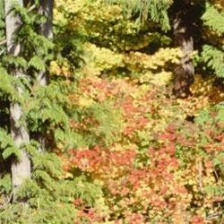neutral: (3, 2, 224, 222)
